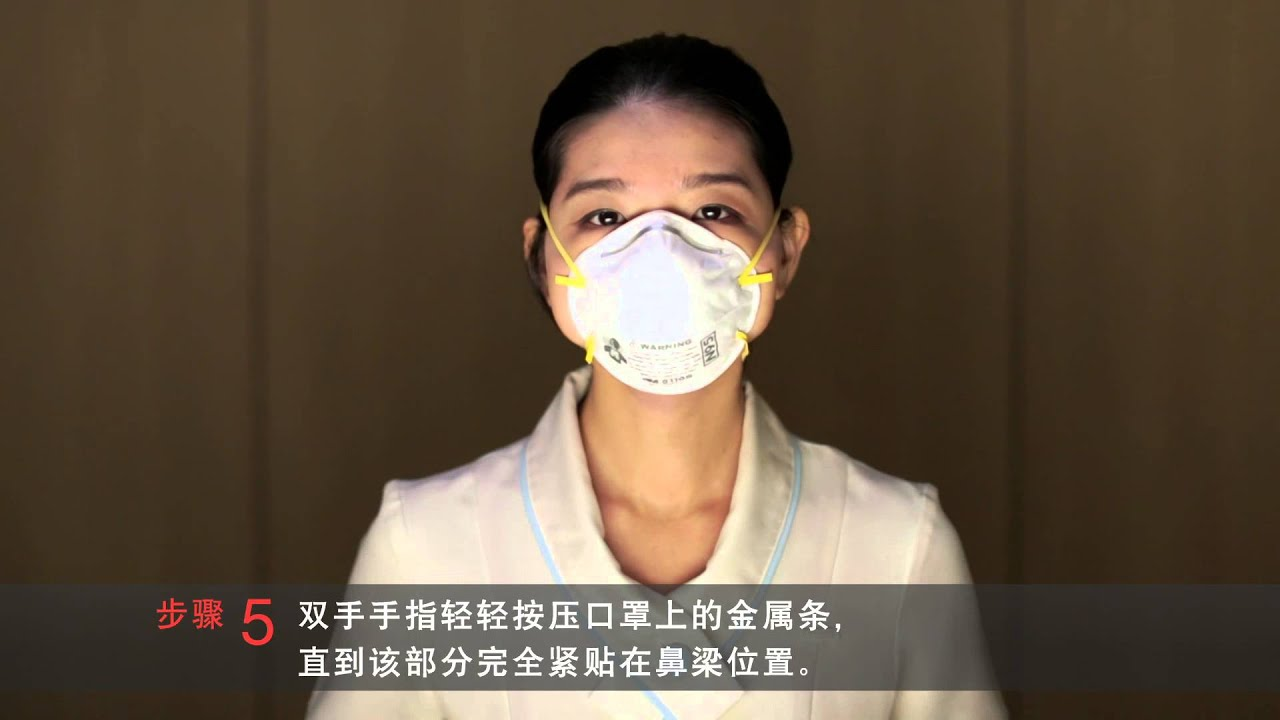Mask: (539, 116, 784, 393)
